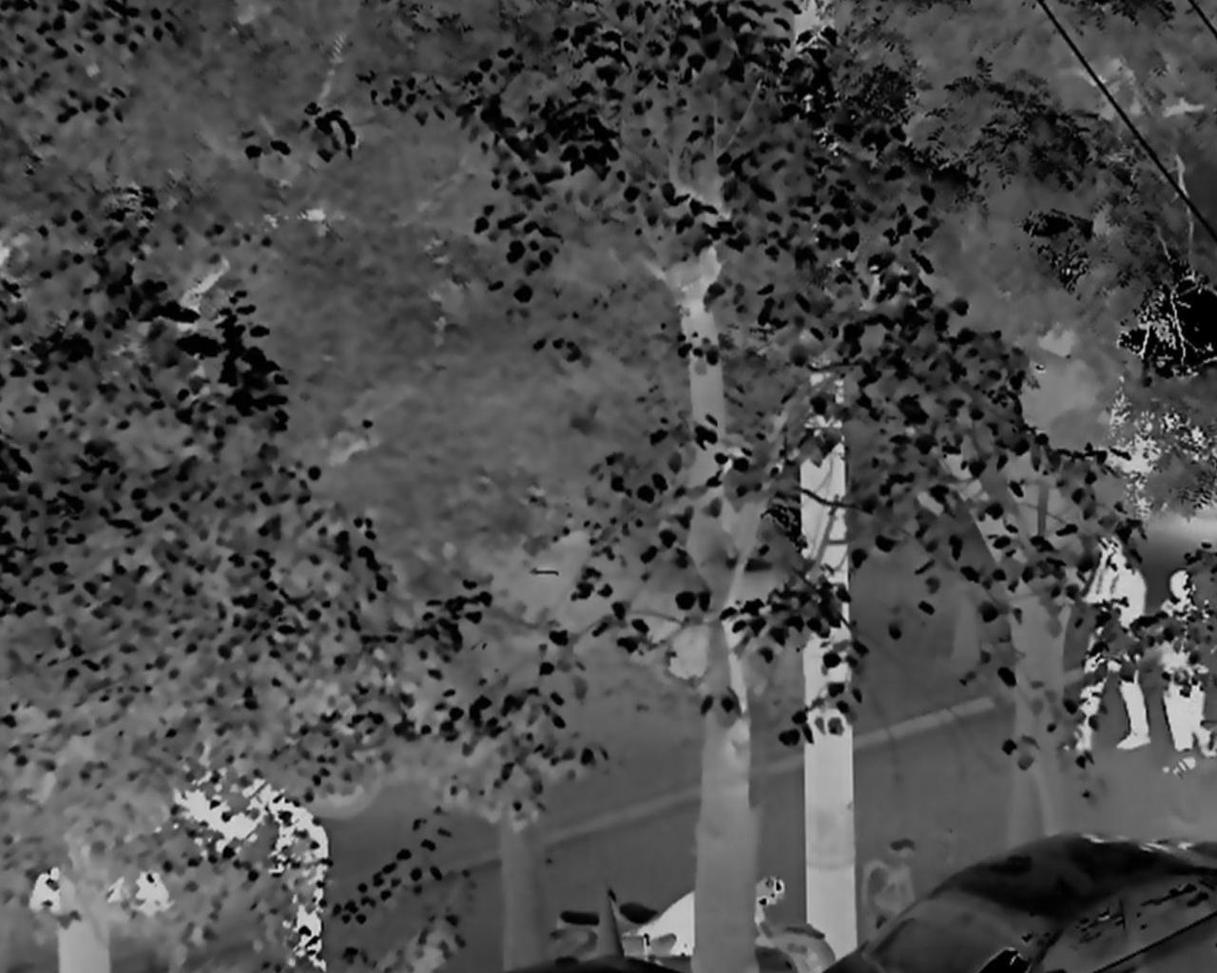person: (1064, 533, 1153, 751), (1154, 567, 1217, 773), (266, 795, 329, 973)
